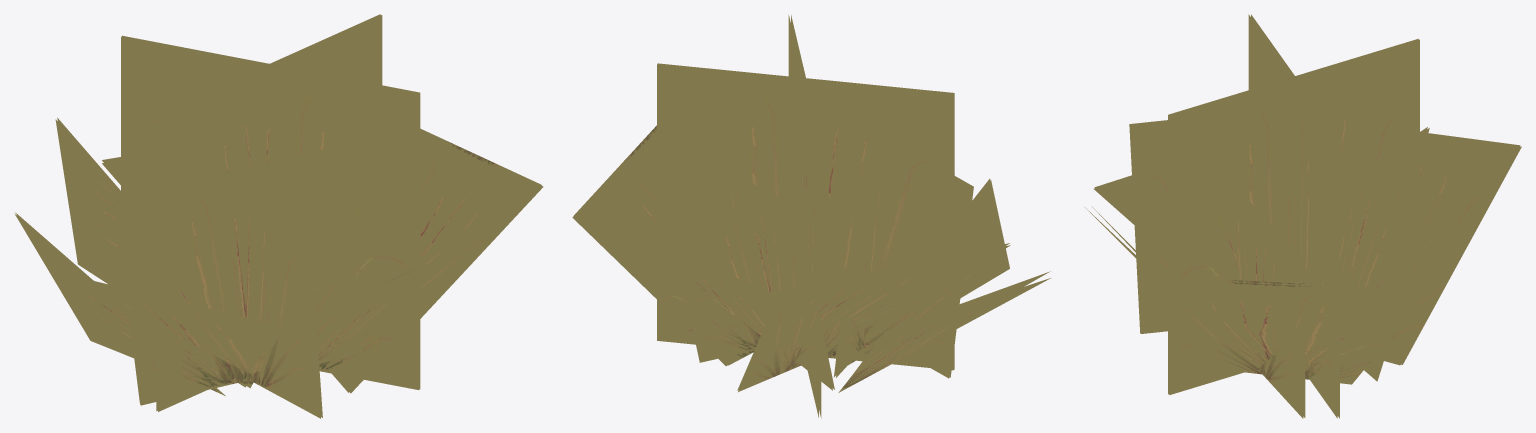
Rendered from SM_cao01_ZYF.fbx.
3 renders of one model, left to right at view 1: azimuth 30°, elevation 25°; view 2: azimuth 150°, elevation 25°; view 3: azimuth 270°, elevation 25°, orthographic. The views are drawn at different scales.
Parts seen in each view (by area): view 1: SM_cao01_ZYF.mo; view 2: SM_cao01_ZYF.mo; view 3: SM_cao01_ZYF.mo.
Boxes of the visible parts, x1,y1,x2,y2 form: SM_cao01_ZYF.mo: (14, 14, 543, 418); SM_cao01_ZYF.mo: (572, 15, 1050, 418); SM_cao01_ZYF.mo: (1085, 14, 1521, 418).
Bounding box in the file's own units: 1.7 × 1.25 × 1.63.
